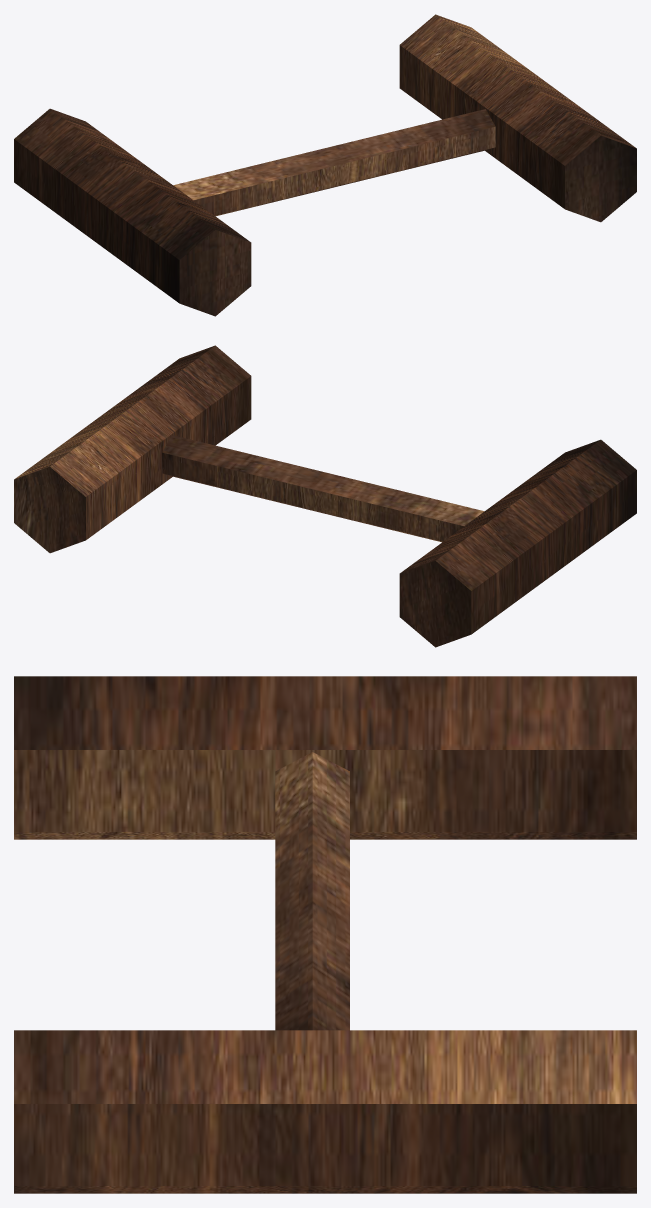
Rendered from ladder3.glb.
3 views of the same model, one above another, from view 1: azimuth 30°, elevation 25°; view 2: azimuth 150°, elevation 25°; view 3: azimuth 270°, elevation 25° (orthographic). The views are drawn at different scales.
Visible parts, largest first — view 1: ladder; view 2: ladder; view 3: ladder.
Boxes of the visible parts, x1,y1,x2,y2 form: ladder: (14,14,636,316); ladder: (14,345,636,647); ladder: (14,676,636,1193).
Bounding box in the file's own units: 2.37 × 0.4304 × 1.49.
Materials: 1 (1 with a texture image).
